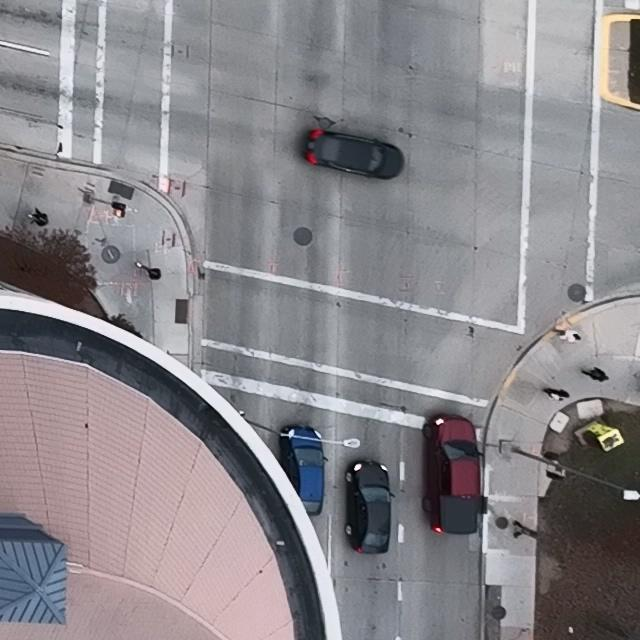car: (422, 416, 483, 536), (303, 129, 405, 178), (345, 460, 395, 554), (280, 425, 330, 517)
